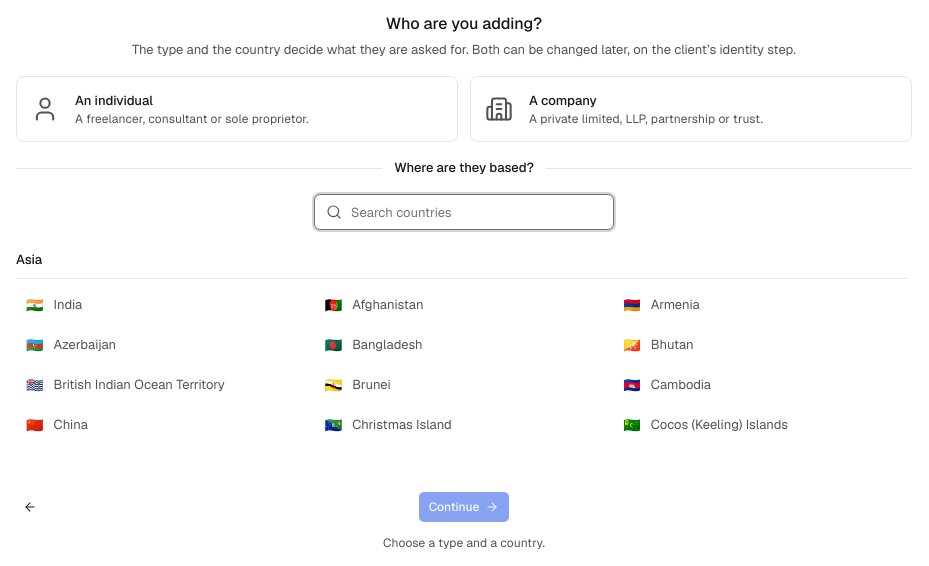
it: CountryChooser › filters as it is typed, and hides a continent nothing matched
Step 1. Type "brazil" into the search field labelled "Search countries" → [464, 212], box [314, 194, 614, 230]
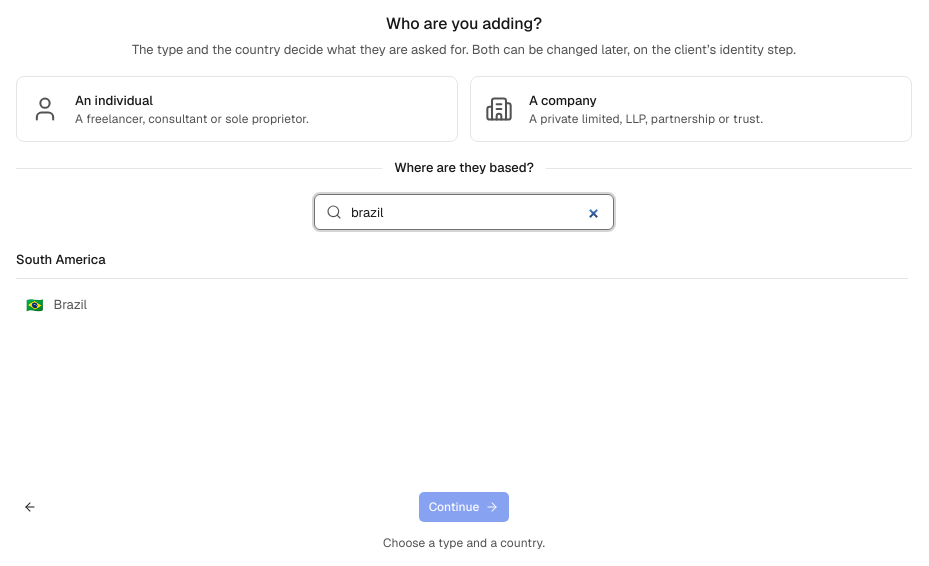
Now the button "🇧🇷 Brazil" is shown, box [16, 287, 311, 323]
